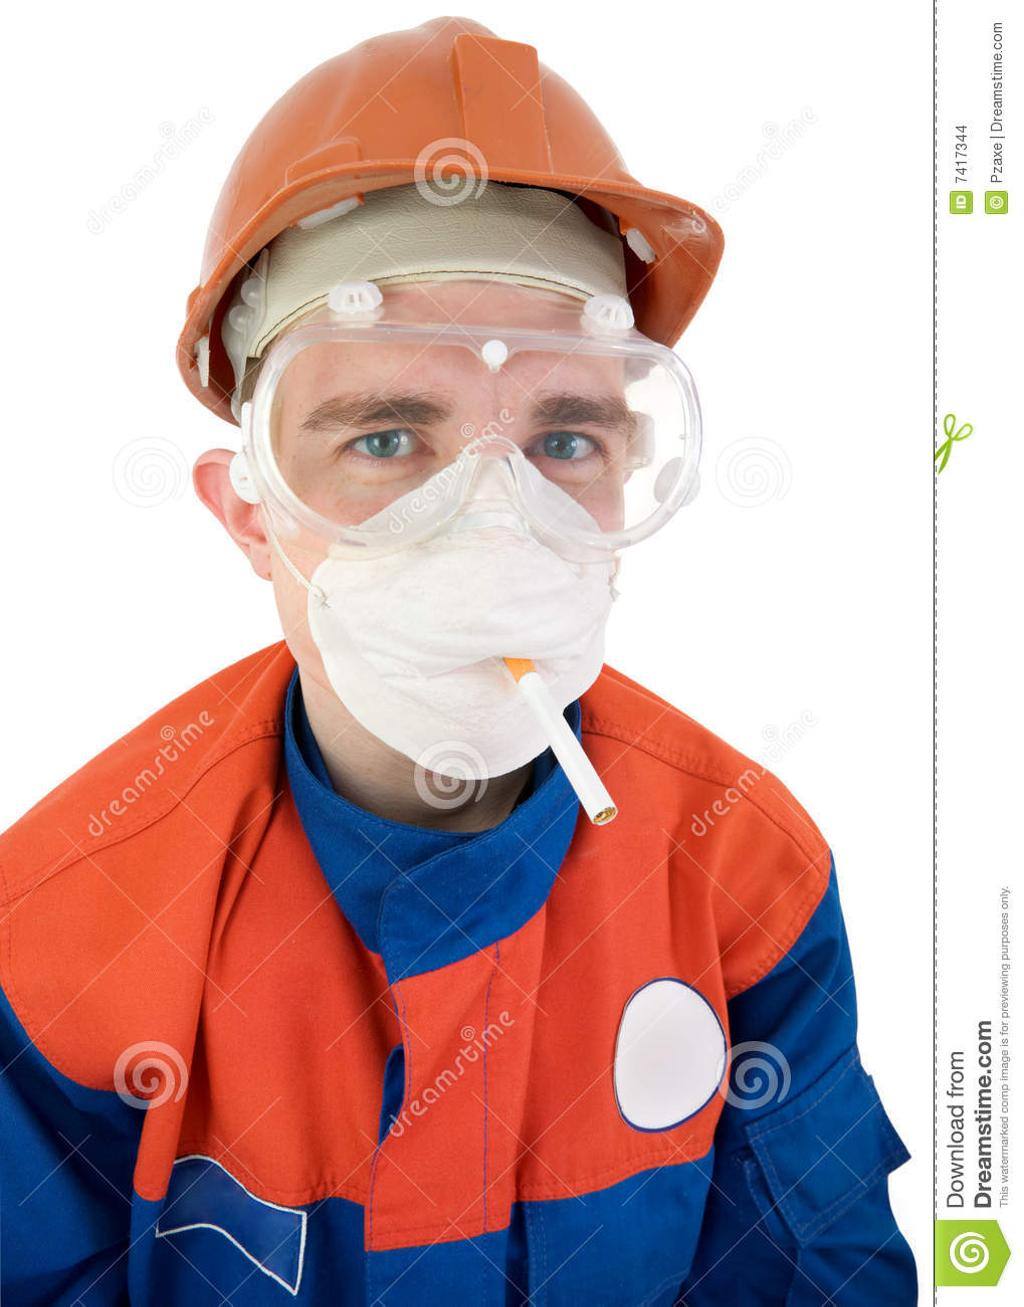face_mask: (281, 240, 618, 682)
